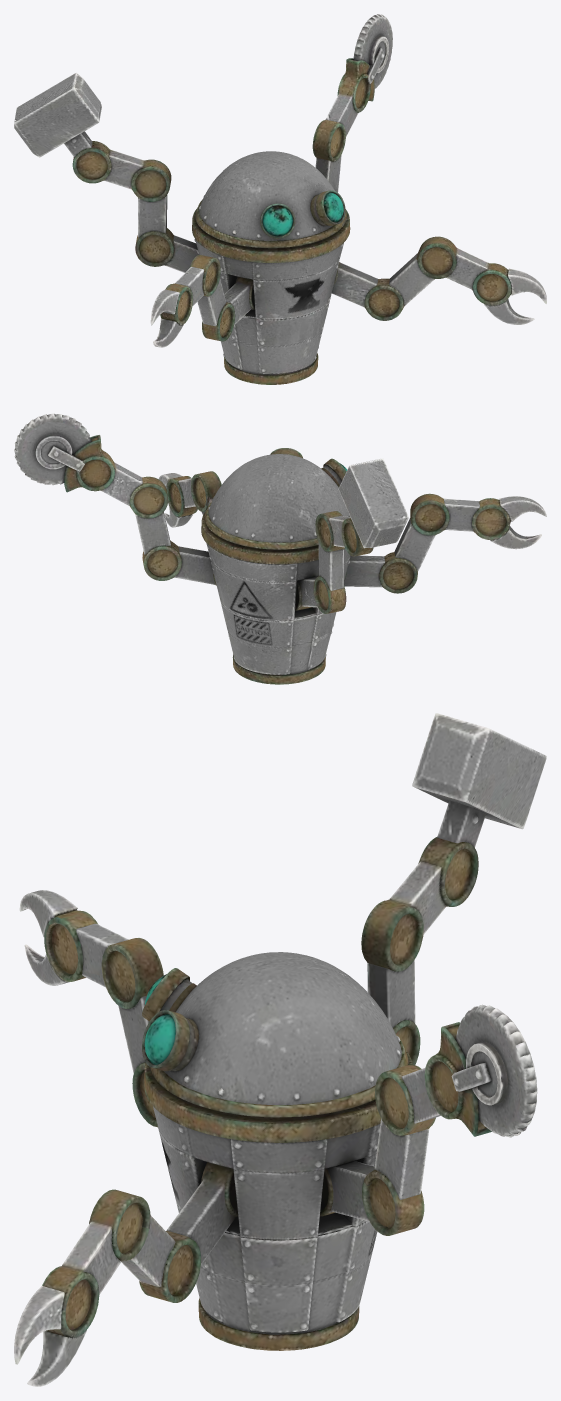
Rendered from MZ4250 - Floating Artificer Companion.glb.
3 renders of one model, top to bottom at view 1: azimuth 30°, elevation 25°; view 2: azimuth 150°, elevation 25°; view 3: azimuth 270°, elevation 25°, orthographic. The views are drawn at different scales.
Parts seen in each view (by area): view 1: FArtComp.001; view 2: FArtComp.001; view 3: FArtComp.001.
Boxes of the visible parts, x1,y1,x2,y2 form: FArtComp.001: [14, 14, 546, 384]; FArtComp.001: [14, 413, 546, 684]; FArtComp.001: [14, 713, 546, 1386].
Bounding box in the file's own units: 27.78 × 18.84 × 19.02.
1 material, 1 textured.
